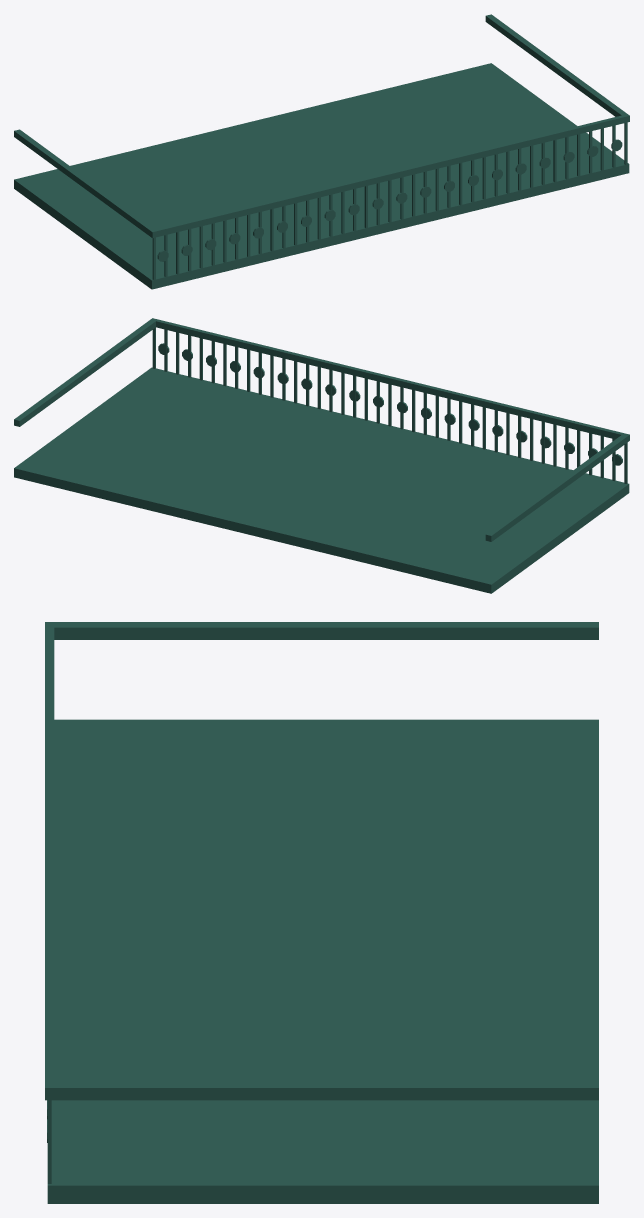
File: varanda.glb
The picture shows the model from 3 angles, top to bottom: view 1: azimuth 30°, elevation 25°; view 2: azimuth 150°, elevation 25°; view 3: azimuth 270°, elevation 25°; orthographic projection. The views are drawn at different scales.
Visible parts, largest first — view 1: varanda; view 2: varanda; view 3: varanda.
Part boxes in pixels (x1=…): varanda: x1=14, y1=14, x2=629, y2=289; varanda: x1=14, y1=318, x2=629, y2=593; varanda: x1=45, y1=622, x2=598, y2=1203.
Size of the model in its own units: 8.2 by 0.95 by 4.12.
